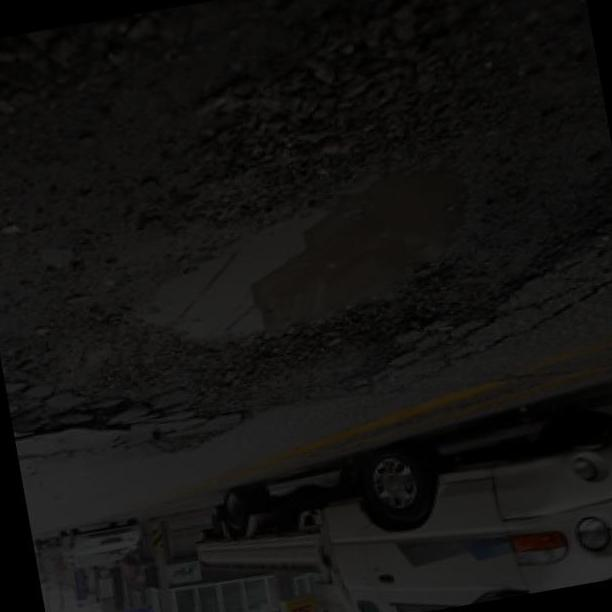pothole: (93, 157, 530, 389)
